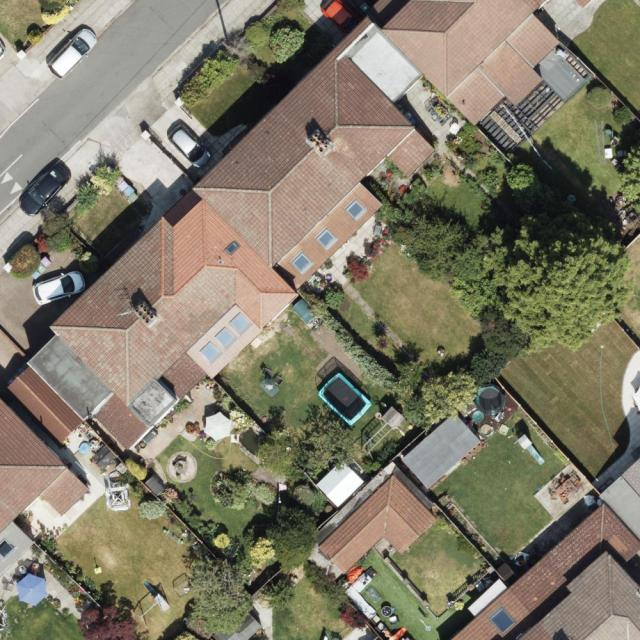roof: (9, 0, 561, 455), (448, 458, 640, 640), (0, 399, 88, 577), (316, 472, 438, 576)
skylight: (489, 604, 517, 635), (228, 311, 253, 335), (343, 198, 368, 222), (198, 341, 222, 364), (292, 252, 315, 275), (317, 228, 338, 249), (216, 326, 236, 348), (1, 537, 14, 559), (225, 239, 241, 256)
